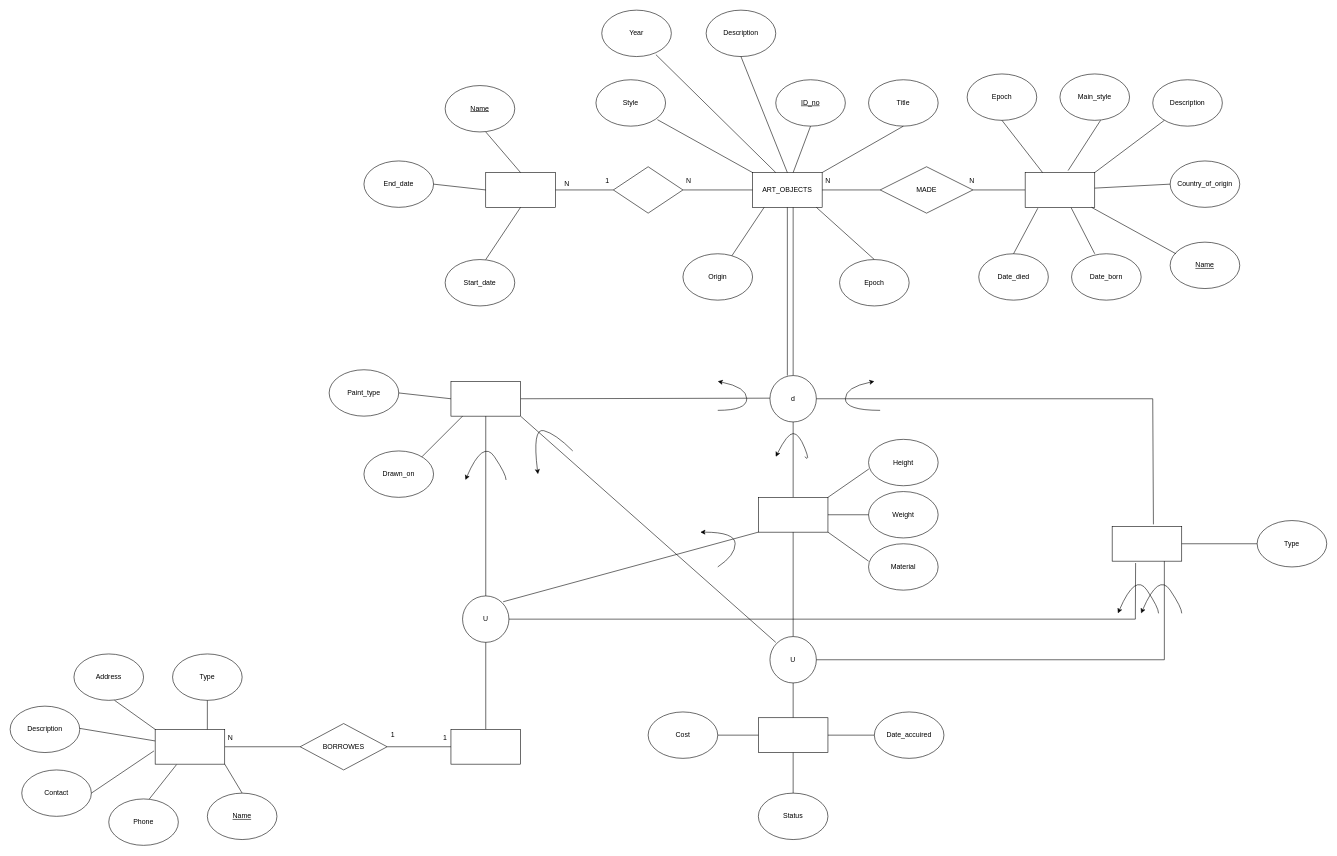
Image size: 1337x856. Some labels were removed from this diagram. The shapes that lost their labels are listed below. From the top down, each one's centre as x and y in pixels, then its label:
At (520,189): "EXHIBITIONS".
At (648,189): "DISPLAYED".
At (1060,189): "ARTIST".
At (485,398): "Painting".
At (793,514): "SCULPTURE".
At (1147,543): "OTHER".
At (190,746): "COLLECTION".
At (485,746): "BORROWED".
At (793,735): "PERMANENT".
